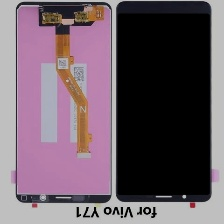phone: (113, 0, 213, 204), (13, 0, 112, 206)
